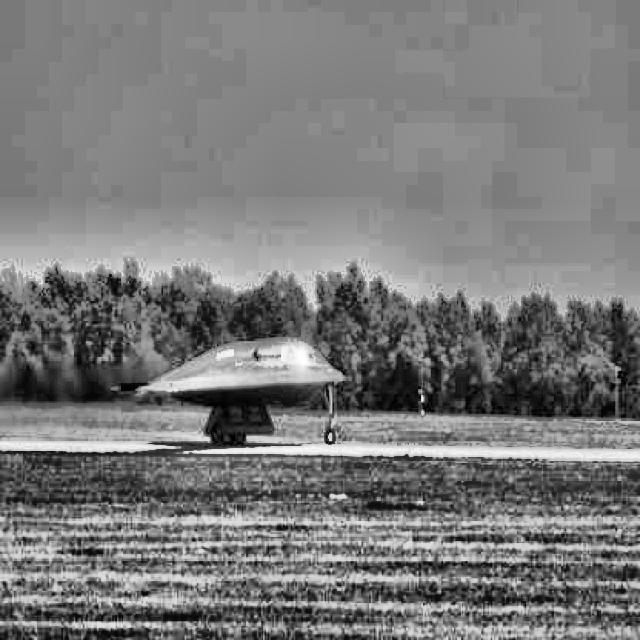B2: (108, 337, 346, 448)
